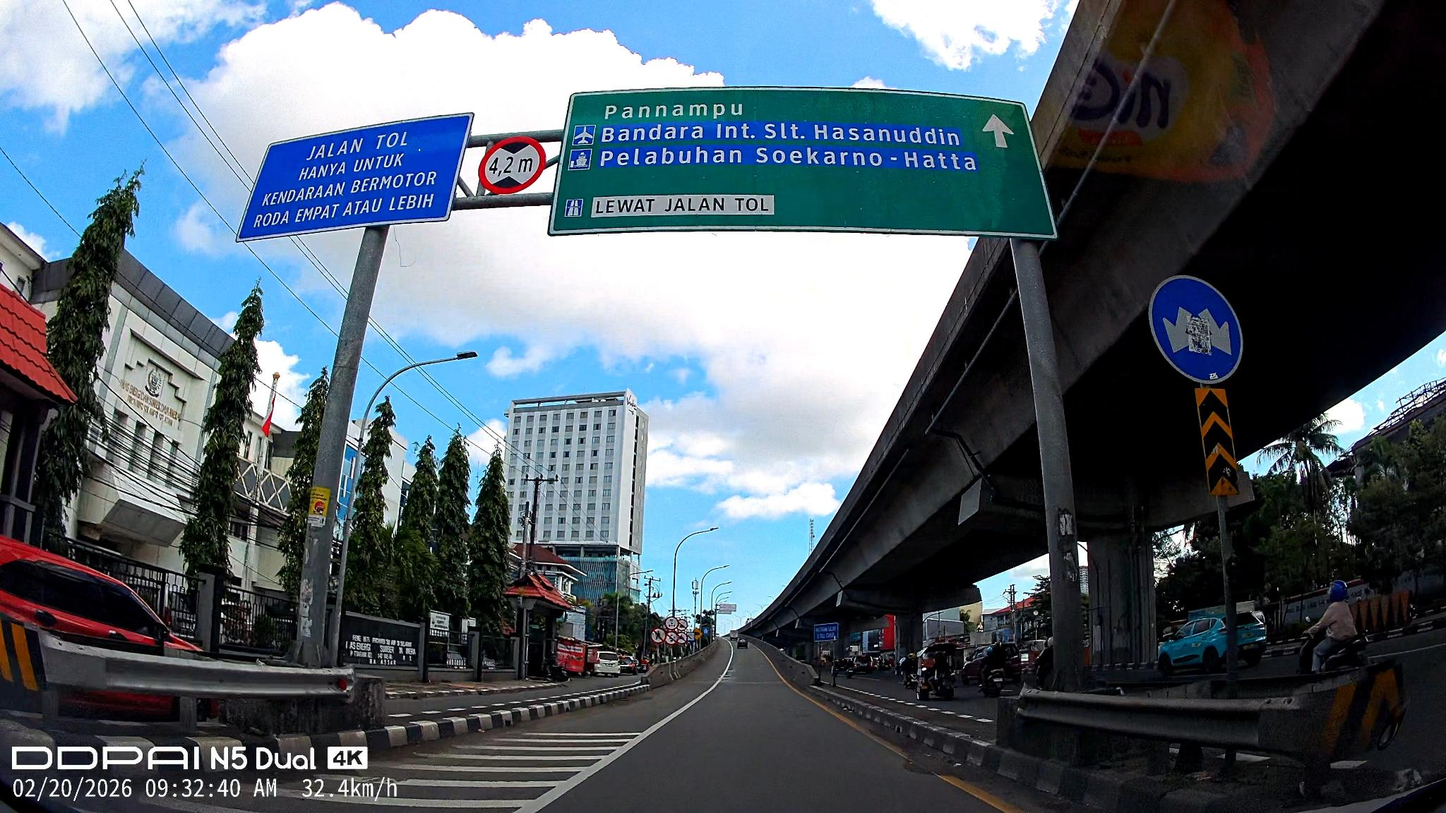rambu_teks: (548, 85, 1059, 237)
